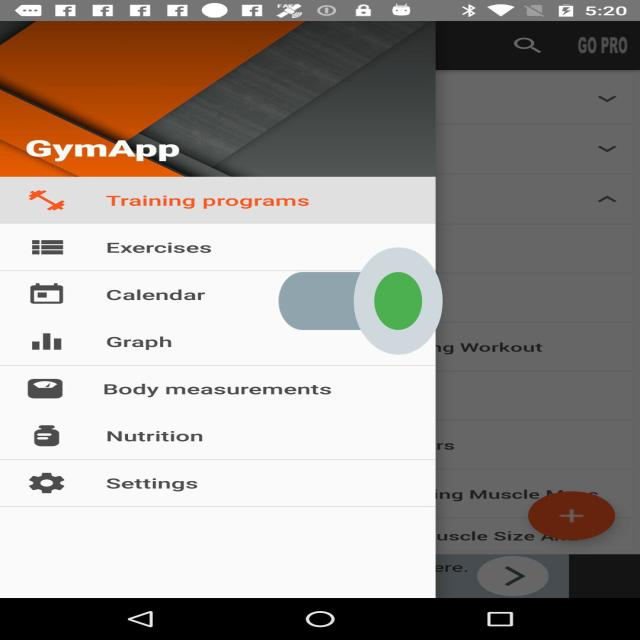social proof: (278, 202, 442, 400)
